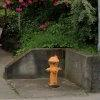a fire hydrant: (45, 53, 64, 88)
